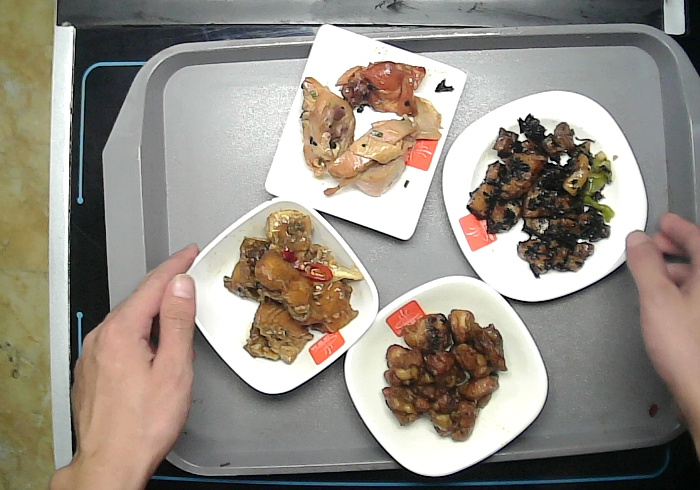SHKJ-Bai_Se_Cai_Die: (343, 272, 549, 479)
SHKJ-Bai_Se_Si_Fang_Cai_Die: (444, 86, 654, 305)
SHKJ-Bai_Se_Xiao_Fang_Die: (178, 197, 382, 396)
SHKJ-Si_Fang_Min: (265, 22, 467, 242)
